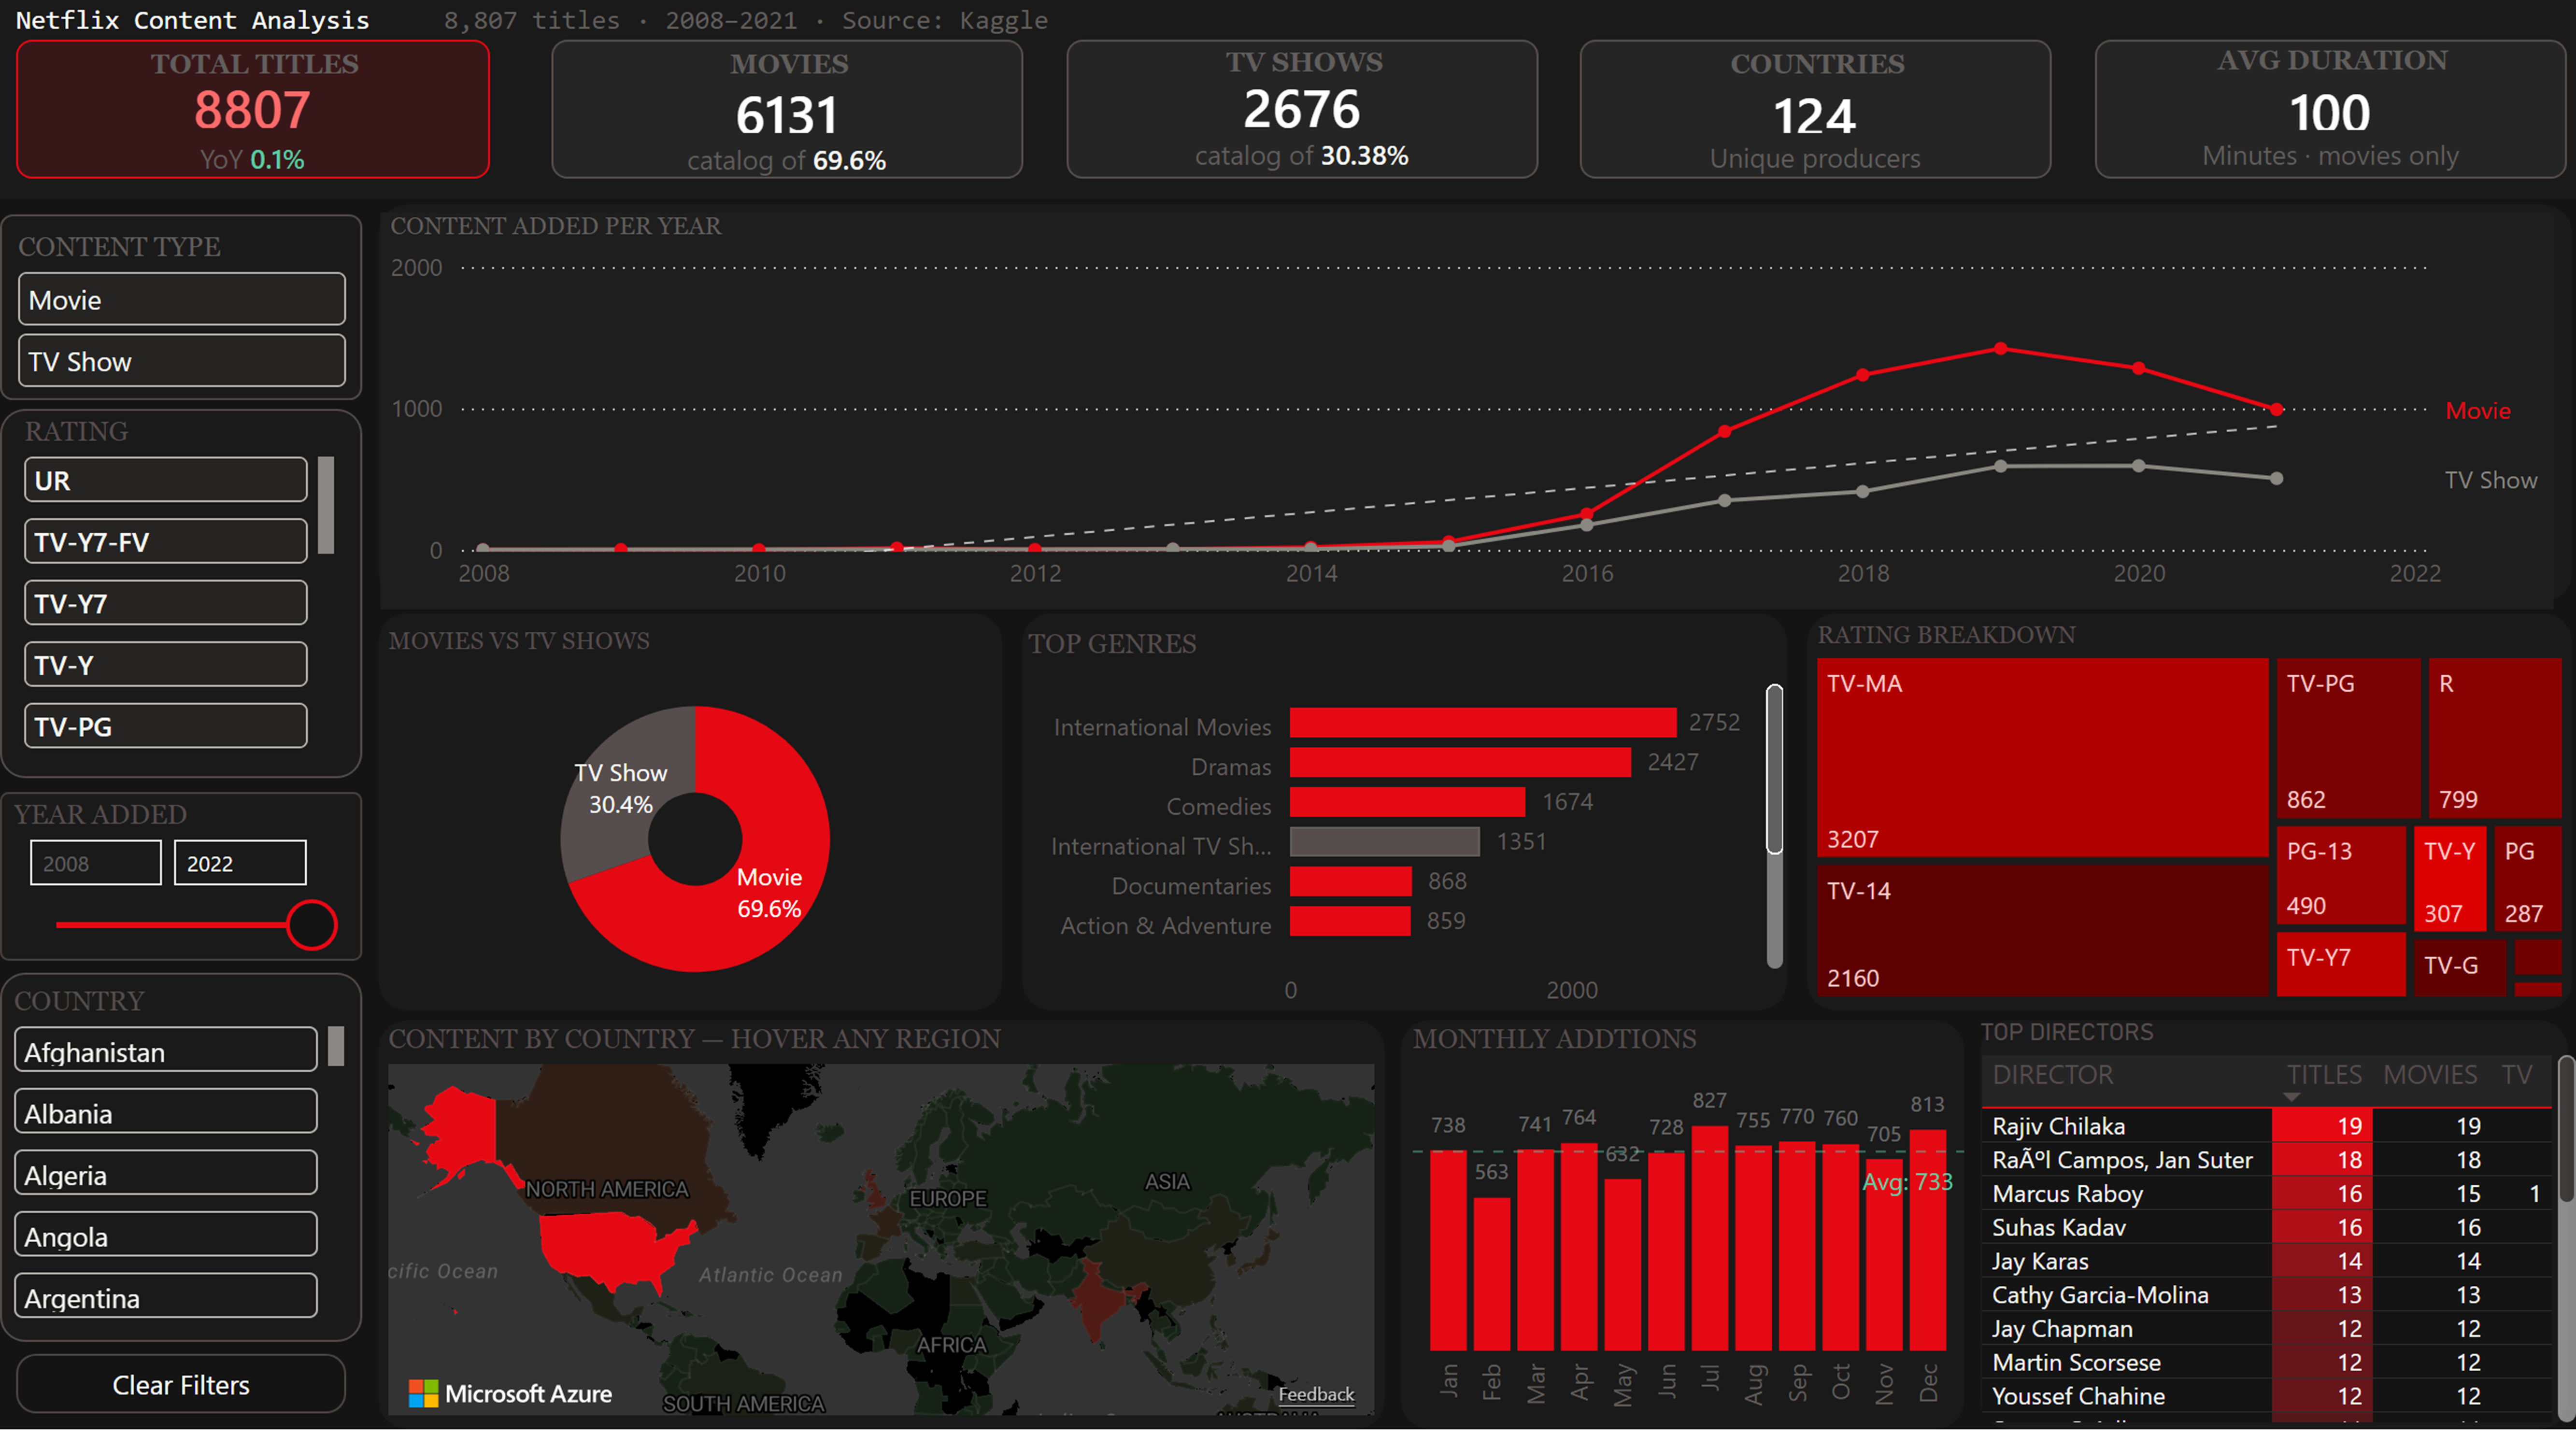

The page's visual inventory and layout, read from the dashboard file:
{"tool":"powerbi","page":{"name":"Report","canvas":[1280,720],"ordinal":0},"visuals":[{"type":"group","id":"g1","title":"KPI strip","box":[0,0,1280,100],"z":0},{"type":"shape","title":"Netflix content analysis · 2008–2021","box":[0,0,1280,100],"z":0,"group":"g1"},{"type":"shape","box":[188.2,103,1090,200],"z":0,"group":"g7"},{"type":"group","id":"g2","title":"Bar Chart","box":[506,308.5,382,202.5],"z":0,"group":"g11"},{"type":"shape","box":[508,308.5,380,200],"z":0,"group":"g2"},{"type":"shape","box":[898,308.5,380,200],"z":0,"group":"g5"},{"type":"card","fields":{"Values":["_Measures.Total Titles"]},"box":[287.8,368.2,115,114.4],"z":0,"group":"g8"},{"type":"shape","box":[0,398.5,180,85],"z":0,"group":"g4"},{"type":"group","id":"g3","title":"Table","box":[984,513.4,296,206.6],"z":0,"group":"g10"},{"type":"shape","box":[188,514,500,206],"z":0,"group":"g9"},{"type":"shape","box":[696,514,280,206],"z":0,"group":"g6"},{"type":"shape","box":[984,514,292,206],"z":0,"group":"g3"},{"type":"cardVisual","title":"TOTAL TITLES","fields":{"Data":["_Measures.Total Titles"]},"box":[8,20,235.5,70],"z":1000,"group":"g1"},{"type":"lineChart","title":"CONTENT ADDED PER YEAR","fields":{"Category":["DateTable.Year"],"Y":["_Measures.Titles Added"],"Series":["Titles.type"]},"box":[188.7,107.1,1080,200],"z":1000,"group":"g7"},{"type":"group","id":"g4","title":"Slicer panel","box":[0,107.8,180,604.2],"z":1000},{"type":"shape","box":[0,107.8,180,93.6],"z":1000,"group":"g4"},{"type":"group","id":"g5","title":"Tree Map","box":[898,308,380,200.5],"z":1000,"group":"g11"},{"type":"treemap","title":"RATING BREAKDOWN","fields":{"Group":["Titles.rating"],"Values":["_Measures.Total Titles"]},"box":[898,308,375,196],"z":1000,"group":"g5"},{"type":"shape","box":[188,309.3,310,200],"z":1000,"group":"g8"},{"type":"clusteredBarChart","title":"TOP GENRES","fields":{"Category":["Genres.genre"],"Series":["Titles.type"],"Y":["_Measures.Total Titles"]},"box":[506,311,380,200],"z":1000,"group":"g2"},{"type":"group","id":"g6","title":"Column Chart","box":[696,513.4,280,206.6],"z":1000,"group":"g10"},{"type":"clusteredColumnChart","title":"MONTHLY ADDTIONS","fields":{"Category":["DateTable.Month Name"],"Y":["_Measures.Titles Added"]},"box":[697.8,513.4,278,206.5],"z":1000,"group":"g6"},{"type":"tableEx","title":"TOP DIRECTORS","fields":{"Values":["Titles.director","_Measures.Total Titles","_Measures.Movies","_Measures.TV Shows"]},"box":[984.1,513.4,295.9,203.7],"z":1000,"group":"g3"},{"type":"azureMap","title":"CONTENT BY COUNTRY — HOVER ANY REGION","fields":{"Category":["Countries.country"]},"box":[188,514,495,200],"z":1000,"group":"g9"},{"type":"cardVisual","title":"MOVIES","fields":{"Data":["_Measures.Movies"]},"box":[273.9,20,234.5,70],"z":2000,"group":"g1"},{"type":"group","id":"g7","title":"Line Chart","box":[188.2,103,1090,204.1],"z":2000},{"type":"advancedSlicerVisual","title":"CONTENT TYPE","fields":{"Values":["Titles.type"]},"box":[8,115.5,165.6,80],"z":2000,"group":"g4"},{"type":"group","id":"g8","title":"Donut Chart","box":[188,309.3,310,201.7],"z":2000,"group":"g11"},{"type":"donutChart","title":"MOVIES VS TV SHOWS","fields":{"Category":["Titles.type"],"Y":["_Measures.Total Titles"]},"box":[188,311,310,200],"z":2000,"group":"g8"},{"type":"group","id":"g9","title":"Map","box":[188,514,500,206],"z":2000,"group":"g10"},{"type":"cardVisual","title":"TV SHOWS","fields":{"Data":["_Measures.TV Shows"]},"box":[529.5,20,234.5,70],"z":3000,"group":"g1"},{"type":"shape","box":[0,206.2,180,186],"z":3000,"group":"g4"},{"type":"group","id":"g10","title":"Bottom row","box":[188,513.4,1092,206.6],"z":3000},{"type":"cardVisual","title":"COUNTRIES","fields":{"Data":["_Measures.Total Countries"]},"box":[785.2,20,234.5,70],"z":4000,"group":"g1"},{"type":"advancedSlicerVisual","title":"RATING","fields":{"Values":["Titles.rating"]},"box":[7,210.2,164,175],"z":4000,"group":"g4"},{"type":"group","id":"g11","title":"Middle Row","box":[188,308,1090,203],"z":4000},{"type":"cardVisual","title":"AVG DURATION","fields":{"Data":["_Measures.Avg Movie Duration (min)"]},"box":[1040.9,20,234.5,70],"z":5000,"group":"g1"},{"type":"actionButton","title":"Clear","box":[8,682,164,30],"z":5000,"group":"g4"},{"type":"textbox","box":[8.4,0,551.4,34.9],"z":6000,"group":"g1"},{"type":"slicer","title":"YEAR ADDED","fields":{"Values":["DateTable.Year"]},"box":[7,402.5,164,80],"z":6000,"group":"g4"},{"type":"shape","box":[0,489.7,180,186],"z":7000,"group":"g4"},{"type":"advancedSlicerVisual","title":"COUNTRY","fields":{"Values":["Countries.country"]},"box":[7,496.7,164,171],"z":8000,"group":"g4"}]}

Visuals, with their boxes in screenshot pixels (x1, y1, x2, y2), scaled from the page's 1280x720 canvas onto the 2576x1449 screenshot:
"KPI strip" group: bbox=(0, 0, 2576, 201)
"Netflix content analysis · 2008–2021" shape: bbox=(0, 0, 2576, 201)
shape: bbox=(379, 207, 2573, 610)
"Bar Chart" group: bbox=(1018, 621, 1787, 1028)
shape: bbox=(1023, 621, 1787, 1023)
shape: bbox=(1807, 621, 2572, 1023)
card - _Measures.Total Titles: bbox=(579, 741, 811, 971)
shape: bbox=(0, 802, 362, 973)
"Table" group: bbox=(1980, 1033, 2576, 1449)
shape: bbox=(378, 1035, 1384, 1449)
shape: bbox=(1401, 1035, 1964, 1449)
shape: bbox=(1980, 1035, 2568, 1449)
"TOTAL TITLES" cardVisual: bbox=(16, 40, 490, 181)
"CONTENT ADDED PER YEAR" lineChart: bbox=(380, 215, 2553, 618)
"Slicer panel" group: bbox=(0, 217, 362, 1433)
shape: bbox=(0, 217, 362, 405)
"Tree Map" group: bbox=(1807, 620, 2572, 1023)
"RATING BREAKDOWN" treemap: bbox=(1807, 620, 2562, 1014)
shape: bbox=(378, 623, 1002, 1025)
"TOP GENRES" clusteredBarChart: bbox=(1018, 626, 1783, 1028)
"Column Chart" group: bbox=(1401, 1033, 1964, 1449)
"MONTHLY ADDTIONS" clusteredColumnChart: bbox=(1404, 1033, 1964, 1449)
"TOP DIRECTORS" tableEx: bbox=(1980, 1033, 2576, 1443)
"CONTENT BY COUNTRY — HOVER ANY REGION" azureMap: bbox=(378, 1035, 1375, 1437)
"MOVIES" cardVisual: bbox=(551, 40, 1023, 181)
"Line Chart" group: bbox=(379, 207, 2573, 618)
"CONTENT TYPE" advancedSlicerVisual: bbox=(16, 232, 349, 394)
"Donut Chart" group: bbox=(378, 623, 1002, 1028)
"MOVIES VS TV SHOWS" donutChart: bbox=(378, 626, 1002, 1028)
"Map" group: bbox=(378, 1035, 1384, 1449)
"TV SHOWS" cardVisual: bbox=(1066, 40, 1537, 181)
shape: bbox=(0, 415, 362, 789)
"Bottom row" group: bbox=(378, 1033, 2576, 1449)
"COUNTRIES" cardVisual: bbox=(1580, 40, 2052, 181)
"RATING" advancedSlicerVisual: bbox=(14, 423, 344, 775)
"Middle Row" group: bbox=(378, 620, 2572, 1028)
"AVG DURATION" cardVisual: bbox=(2095, 40, 2567, 181)
"Clear" actionButton: bbox=(16, 1373, 346, 1433)
textbox: bbox=(17, 0, 1126, 70)
"YEAR ADDED" slicer: bbox=(14, 810, 344, 971)
shape: bbox=(0, 985, 362, 1360)
"COUNTRY" advancedSlicerVisual: bbox=(14, 1000, 344, 1344)
